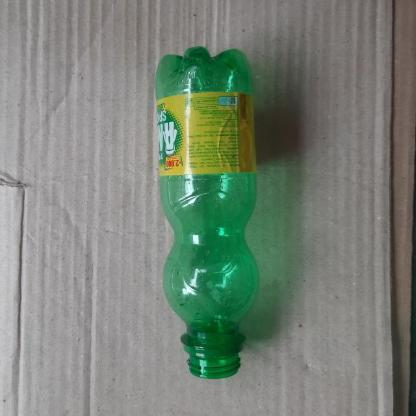Plastic Bottle: (115, 8, 332, 400)
